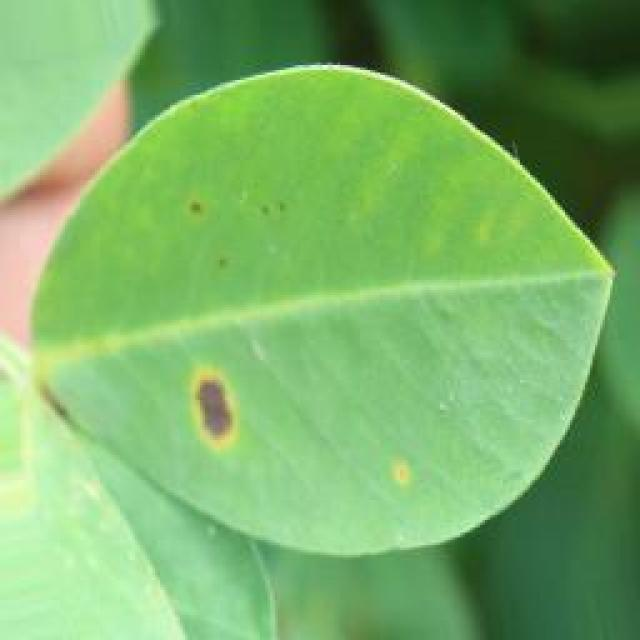Early_leaf_spot: (163, 180, 305, 279), (172, 349, 258, 460), (373, 437, 425, 505)
